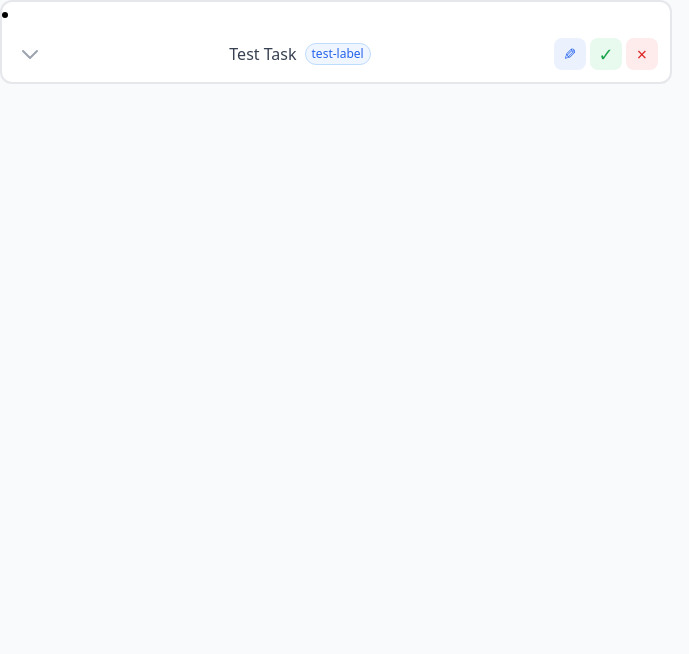
Edit Mode Tests › enters edit mode when edit button is clicked
Click the button "✎". click: click(570, 54)
box: top-left (554, 38), bottom-right (586, 70)
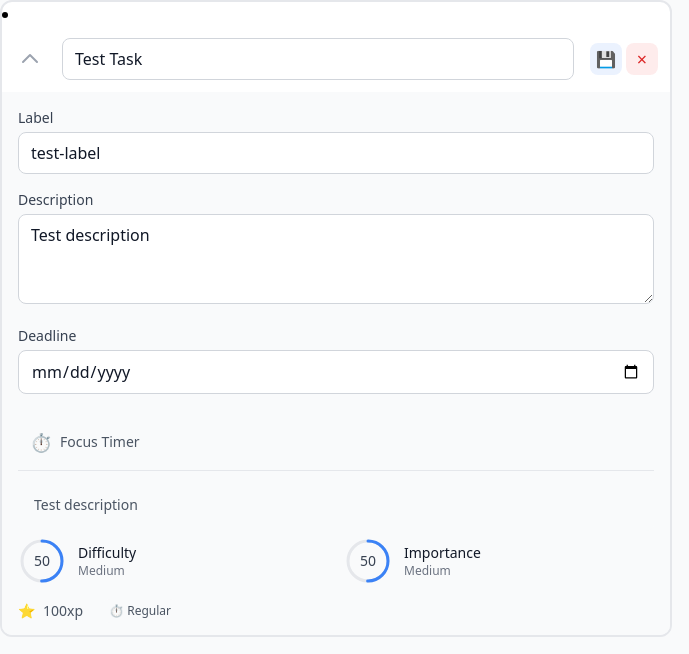
Expected: the 1st field showing "Test Task" is shown, top-left (62, 38), bottom-right (574, 80)
Expected: the text box showing "Test description" is shown, top-left (18, 214), bottom-right (654, 304)
Expected: the field showing "test-label" below "Label" is shown, top-left (18, 132), bottom-right (654, 174)
